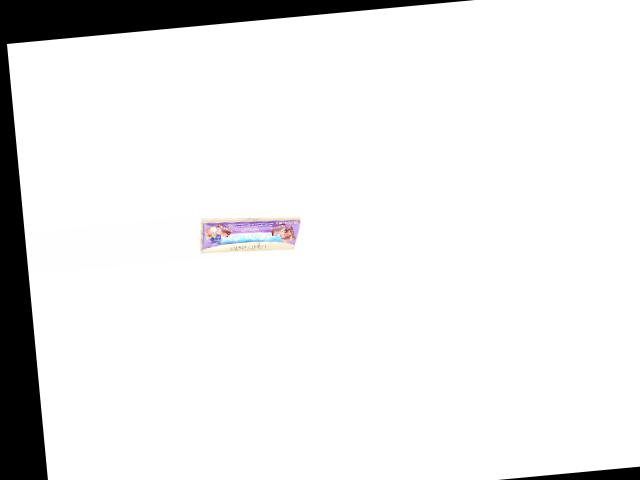chocolate: (197, 208, 307, 253)
